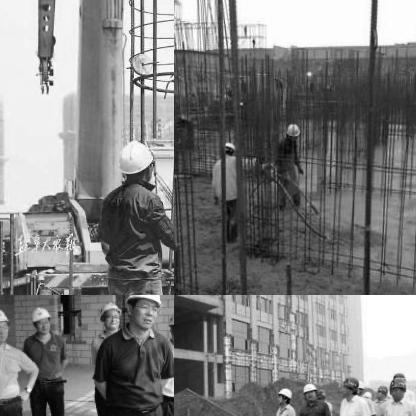Helmet: (114, 134, 156, 188), (125, 295, 164, 331), (98, 299, 122, 333), (28, 303, 50, 333), (387, 374, 408, 398), (340, 373, 358, 397), (0, 304, 11, 343), (300, 378, 316, 402), (284, 120, 302, 140), (274, 385, 292, 405), (219, 137, 237, 153), (166, 304, 173, 344), (372, 382, 386, 400), (314, 386, 326, 402), (354, 378, 364, 394)
